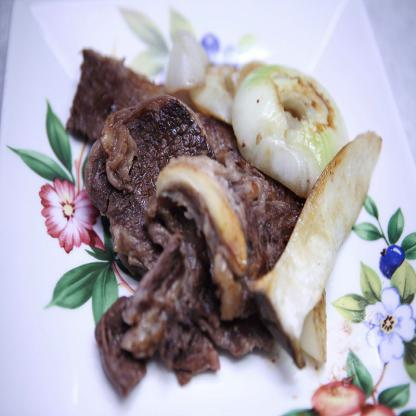Carne: (78, 98, 196, 229), (109, 254, 226, 370), (73, 46, 151, 148)
